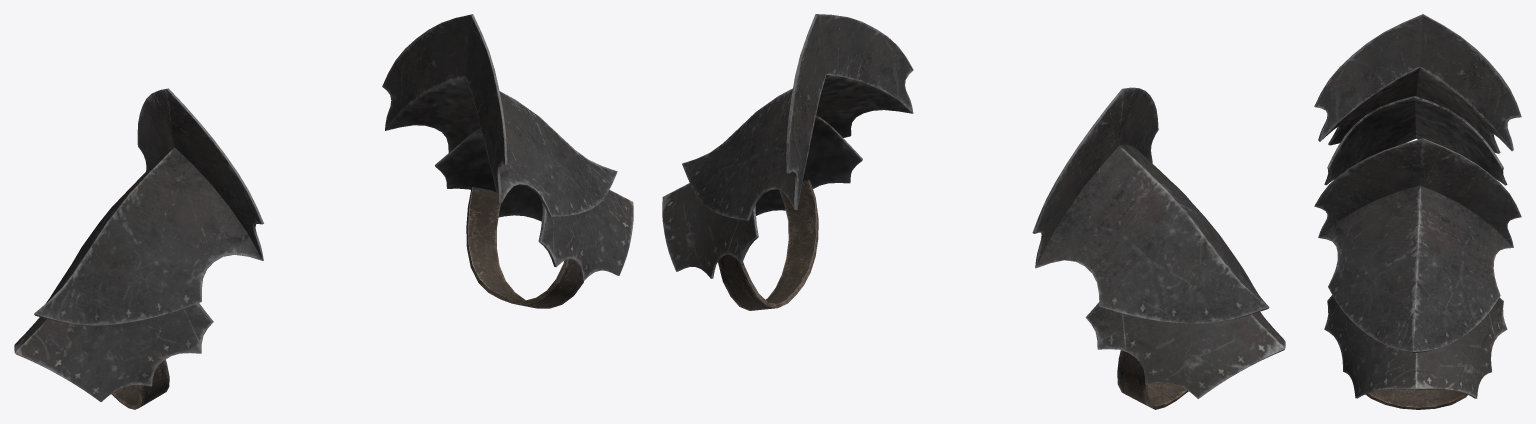
Rendered from sk_uruk_mordor_pauldron_heavy_b.fbx.
3 renders of one model, left to right at view 1: azimuth 30°, elevation 25°; view 2: azimuth 150°, elevation 25°; view 3: azimuth 270°, elevation 25°, orthographic. The views are drawn at different scales.
Parts seen in each view (by area): view 1: sk_uruk_mordor_pauldron_heavy_b.1, sk_uruk_mordor_pauldron_heavy_b.0; view 2: sk_uruk_mordor_pauldron_heavy_b.1, sk_uruk_mordor_pauldron_heavy_b.0; view 3: sk_uruk_mordor_pauldron_heavy_b.1, sk_uruk_mordor_pauldron_heavy_b.0.
Part boxes in pixels (x1,y1,x2,y2): sk_uruk_mordor_pauldron_heavy_b.1: (14,14,633,401); sk_uruk_mordor_pauldron_heavy_b.0: (111,186,583,409); sk_uruk_mordor_pauldron_heavy_b.1: (662,14,1285,398); sk_uruk_mordor_pauldron_heavy_b.0: (718,179,1188,409); sk_uruk_mordor_pauldron_heavy_b.1: (1314,14,1521,398); sk_uruk_mordor_pauldron_heavy_b.0: (1346,168,1467,409).
Size of the model in its own units: 0.8779 by 0.3048 by 0.4069.
Materials: 2 (2 with a texture image).
